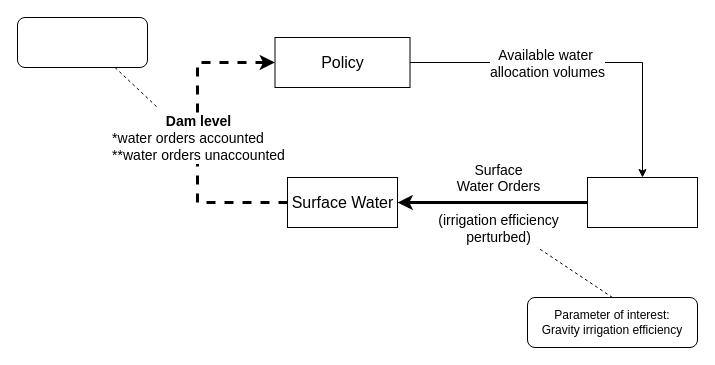
Image size: 715x365. Some labels were removed from this diagram. Each missing label, with the centre of its shape:
Farm: point (642, 202)
Quantity of Interest: Long-term Average Dam Level: point (82, 42)
